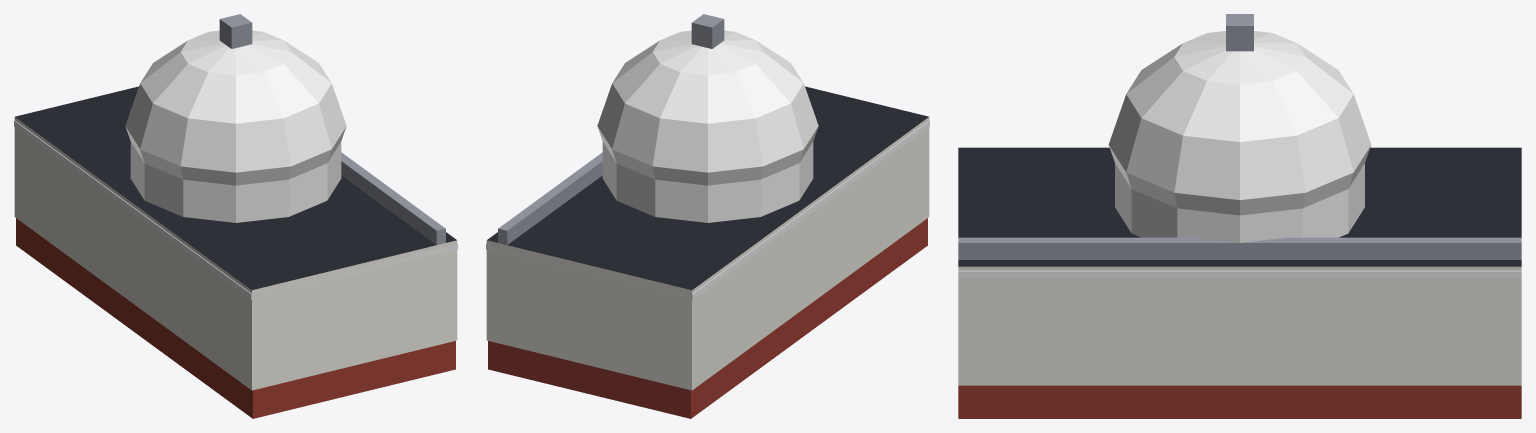
Rendered from metanero_carga.obj.
The picture shows the model from 3 angles, left to right: view 1: azimuth 30°, elevation 25°; view 2: azimuth 150°, elevation 25°; view 3: azimuth 270°, elevation 25°; orthographic projection. The views are drawn at different scales.
Visible parts, largest first — view 1: metanero_carga; view 2: metanero_carga; view 3: metanero_carga.
Boxes of the visible parts, <box> form: metanero_carga: <box>14,14,457,418</box>; metanero_carga: <box>486,14,929,418</box>; metanero_carga: <box>958,14,1521,418</box>.
Bounding box in the file's own units: 9.06 × 12 × 18.
